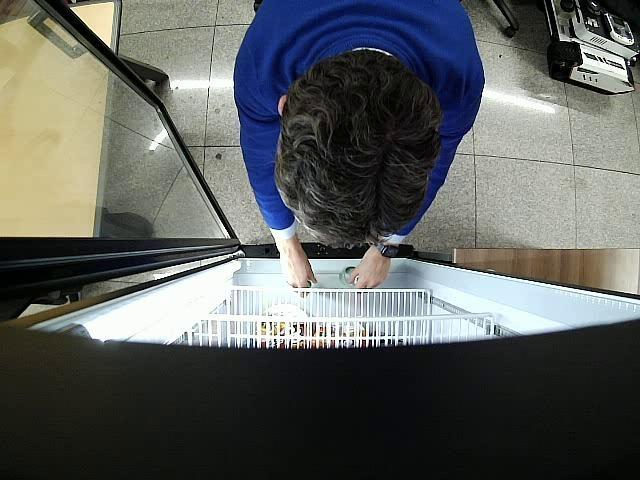18_trevi: (340, 266, 359, 285), (306, 280, 312, 289)
